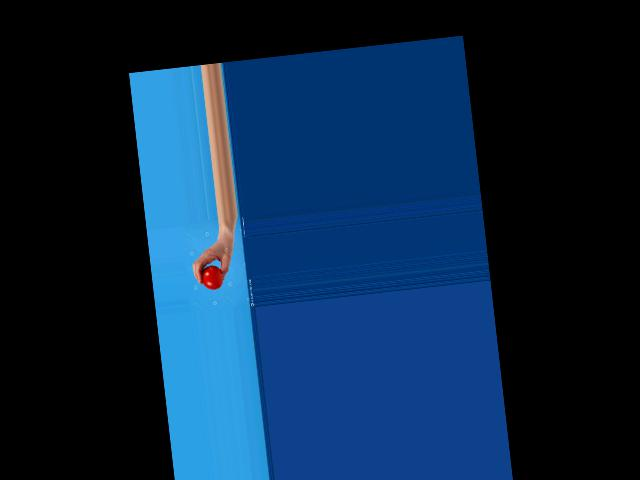tomato: (200, 264, 223, 290)
